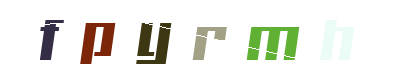F: (13, 0, 93, 80)
H: (232, 0, 312, 80)
M: (164, 0, 244, 80)
P: (57, 0, 137, 80)
R: (151, 0, 231, 80)
Y: (114, 0, 194, 80)
